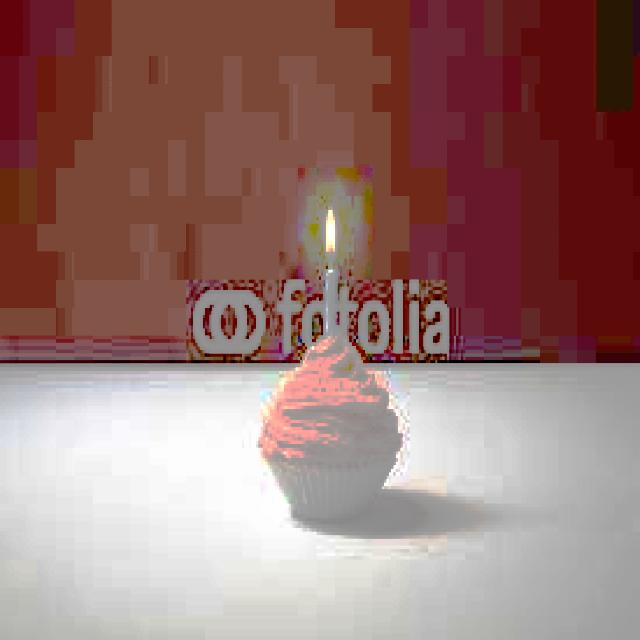api: (315, 197, 343, 274)
